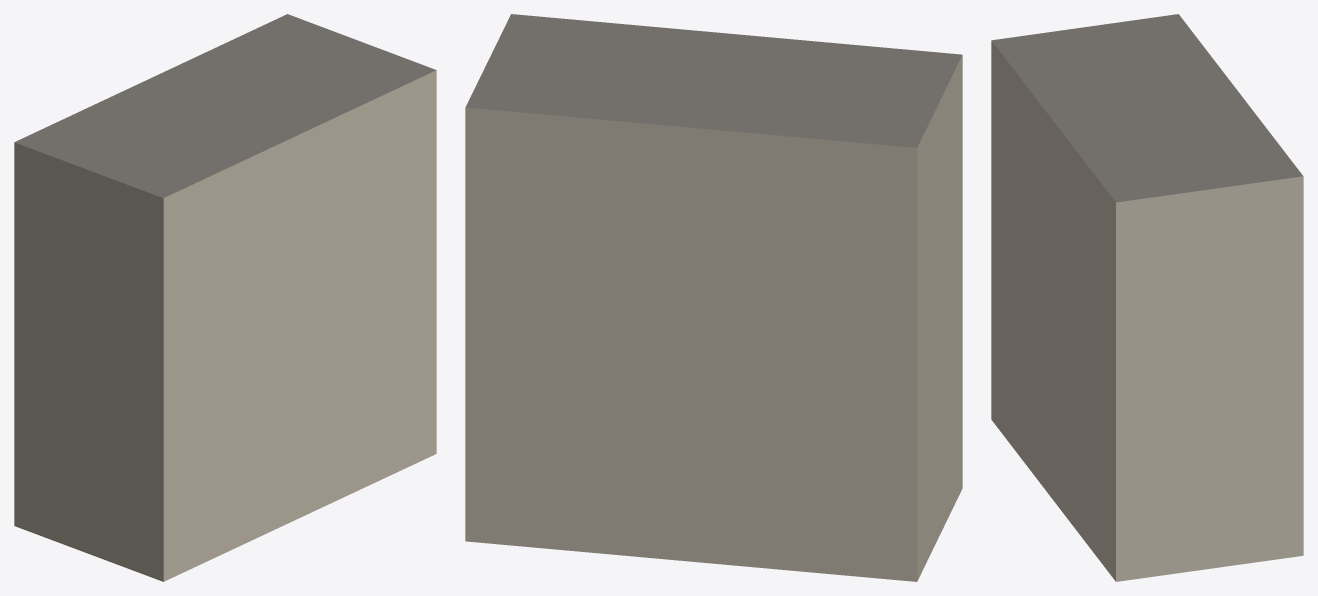
The picture shows the model from 3 angles, left to right: view 1: azimuth 30°, elevation 25°; view 2: azimuth 150°, elevation 25°; view 3: azimuth 270°, elevation 25°; orthographic projection. The views are drawn at different scales.
Visible parts, largest first — view 1: HP-w389702049; view 2: HP-w389702049; view 3: HP-w389702049.
Part boxes in pixels (left/top/right/bottom): HP-w389702049: left=14, top=14, right=436, bottom=581; HP-w389702049: left=465, top=14, right=962, bottom=581; HP-w389702049: left=991, top=14, right=1303, bottom=581.
Size of the model in its own units: 19.18 by 18 by 13.42.
